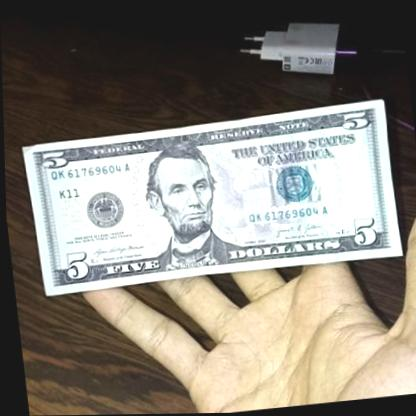five-front: (19, 98, 409, 295)
